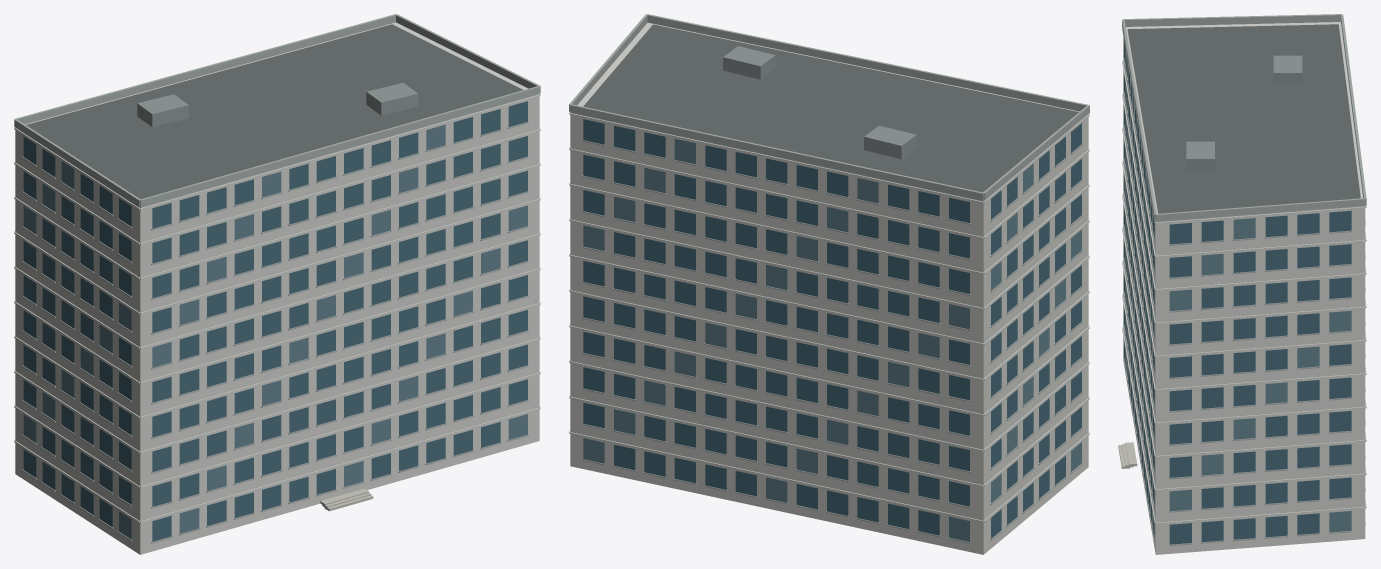
File: 软件园与科创楼-003.glb
3 renders of one model, left to right at view 1: azimuth 30°, elevation 25°; view 2: azimuth 150°, elevation 25°; view 3: azimuth 270°, elevation 25°, orthographic. The views are drawn at different scales.
Visible parts, largest first — view 1: 软件园与科创楼-003; view 2: 软件园与科创楼-003; view 3: 软件园与科创楼-003.
Part boxes in pixels (left/top/right/bottom): 软件园与科创楼-003: left=14, top=14, right=540, bottom=554; 软件园与科创楼-003: left=569, top=14, right=1089, bottom=554; 软件园与科创楼-003: left=1118, top=14, right=1366, bottom=554.
Size of the model in its own units: 46.54 by 37.42 by 24.29.
